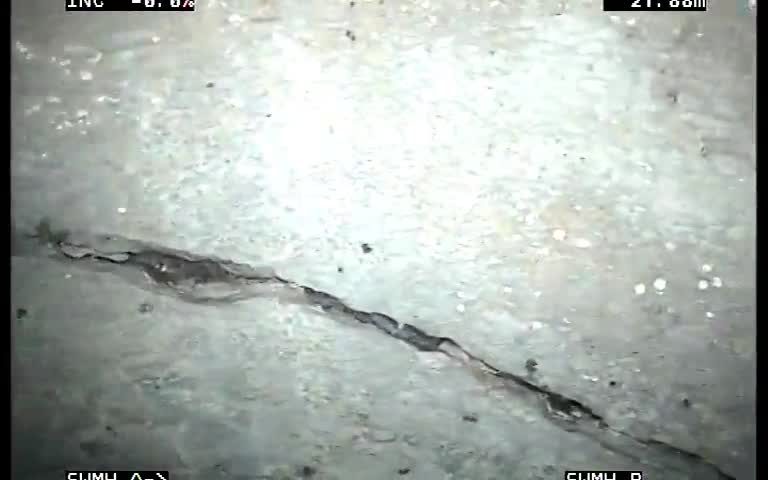Crack: (17, 186, 683, 452)
